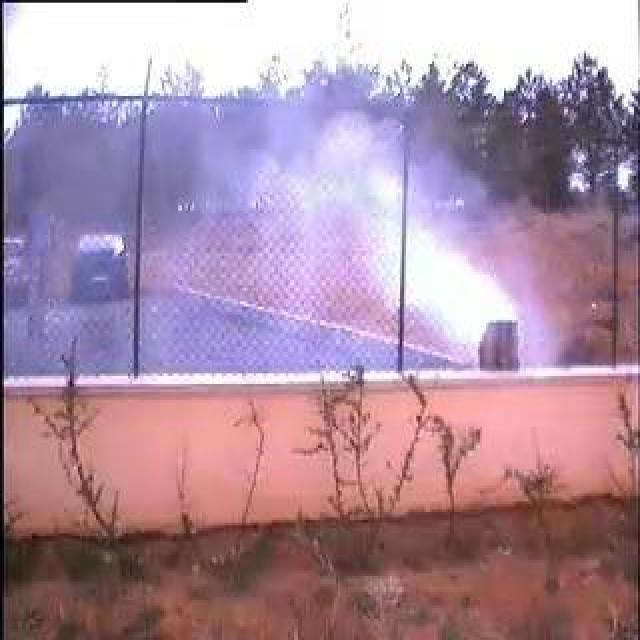Smoke: (38, 105, 526, 364)
